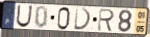0: (34, 5, 49, 30), (57, 6, 72, 31)
8: (117, 9, 133, 34)
D: (74, 7, 93, 31)
R: (97, 8, 116, 33)
U: (16, 5, 34, 29)
